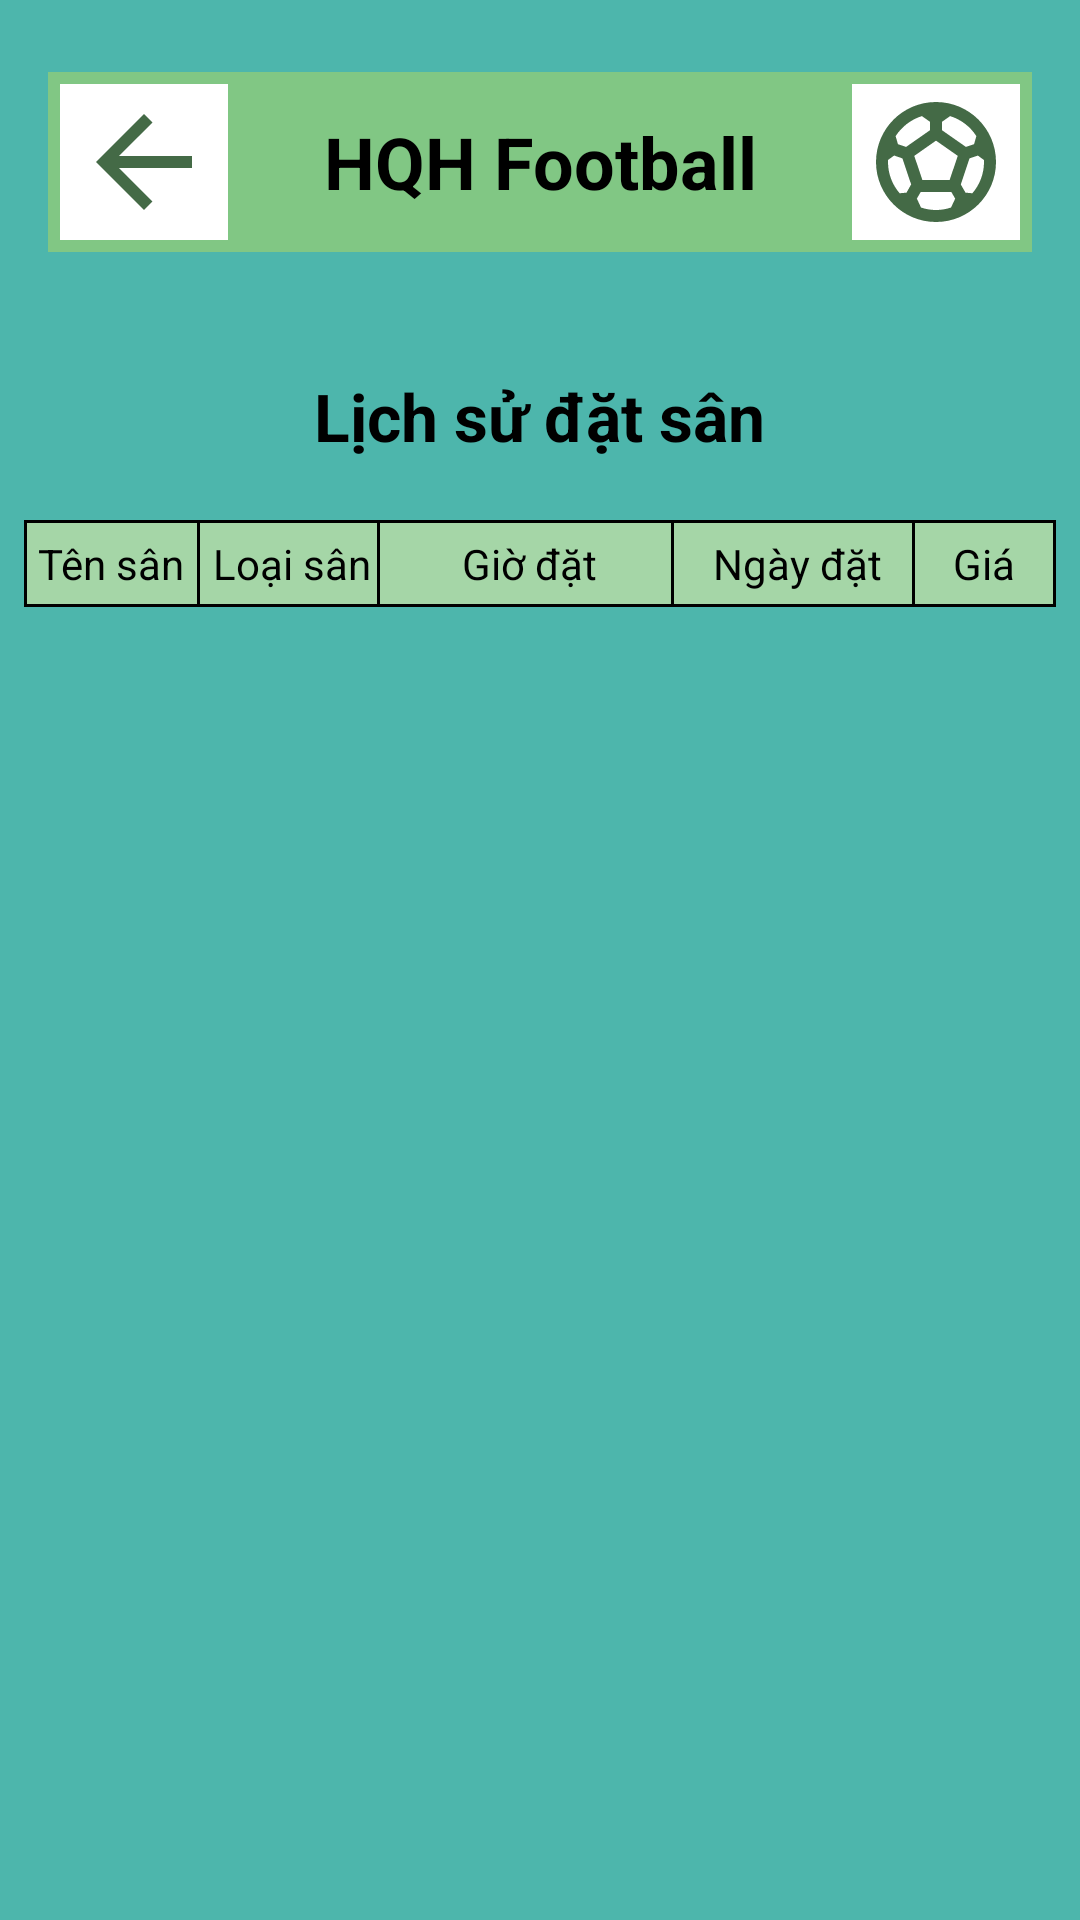

Point at icon controls on the screen. Image size 1080 × 1920, points as point (x, y).
back: point (144, 162)
soccer: point (936, 162)
